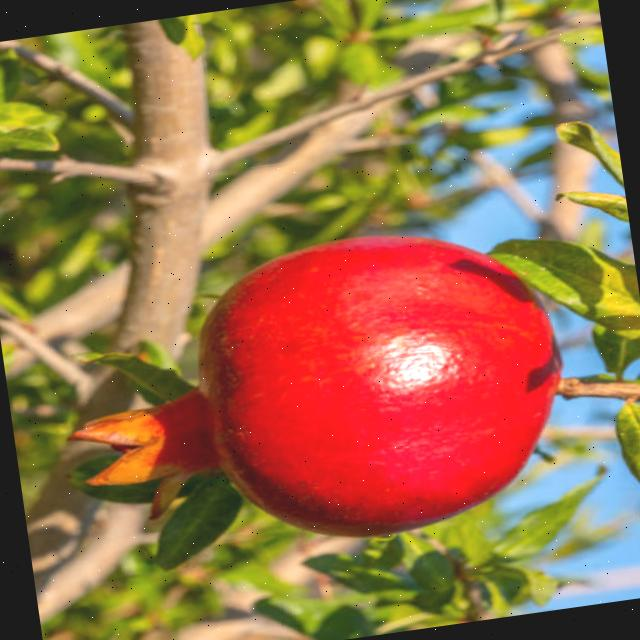Ripe: (46, 209, 587, 580)
